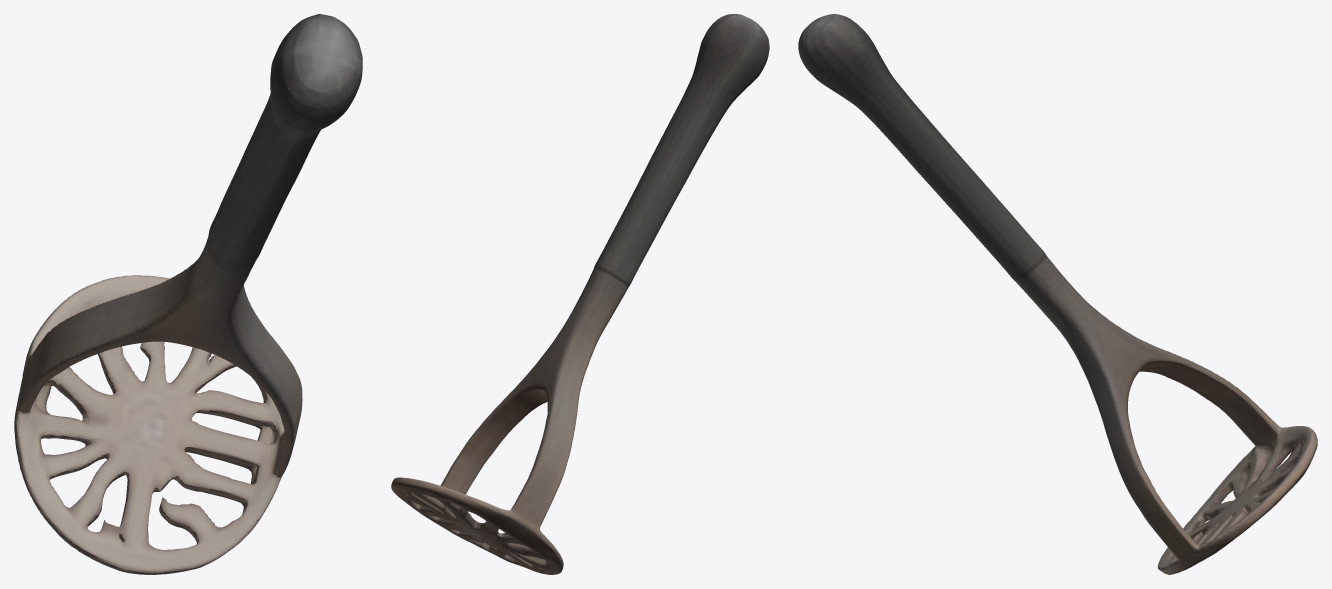
Rendered from frame_0009_source_000009_object.glb.
3 renders of one model, left to right at view 1: azimuth 30°, elevation 25°; view 2: azimuth 150°, elevation 25°; view 3: azimuth 270°, elevation 25°, orthographic. The views are drawn at different scales.
Parts seen in each view (by area): view 1: world; view 2: world; view 3: world.
Boxes of the visible parts, box(x1,y1,x2,y2) form: world: box(14, 14, 362, 574); world: box(391, 14, 769, 574); world: box(798, 14, 1317, 574).
Bounding box in the file's own units: 0.0903 × 0.2174 × 0.1992.
